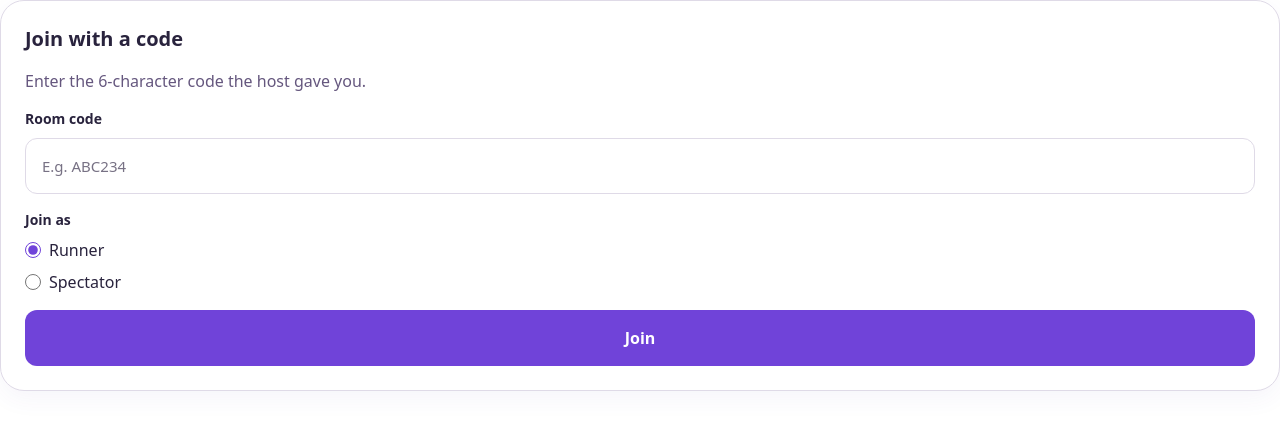
formulaire « rejoindre avec un code » (en) › refuse un code incomplet ou aux caractères exclus : message traduit, aucun envoi
Step 1. Type "ABC" into the field labelled "Room code" → (640, 166), box [25,138,1255,194]
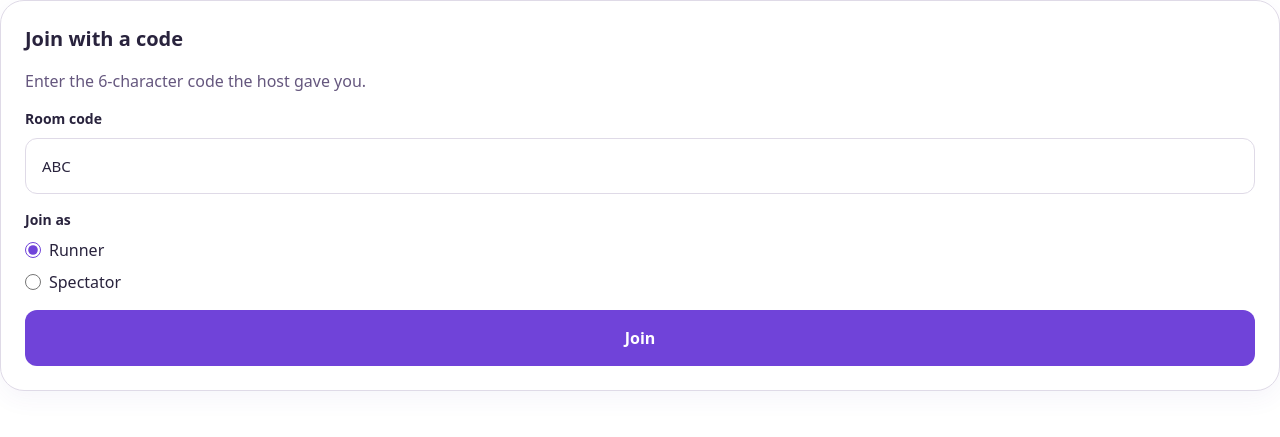
Step 2. Click the button "Join" → click(640, 338), box [25,310,1255,366]
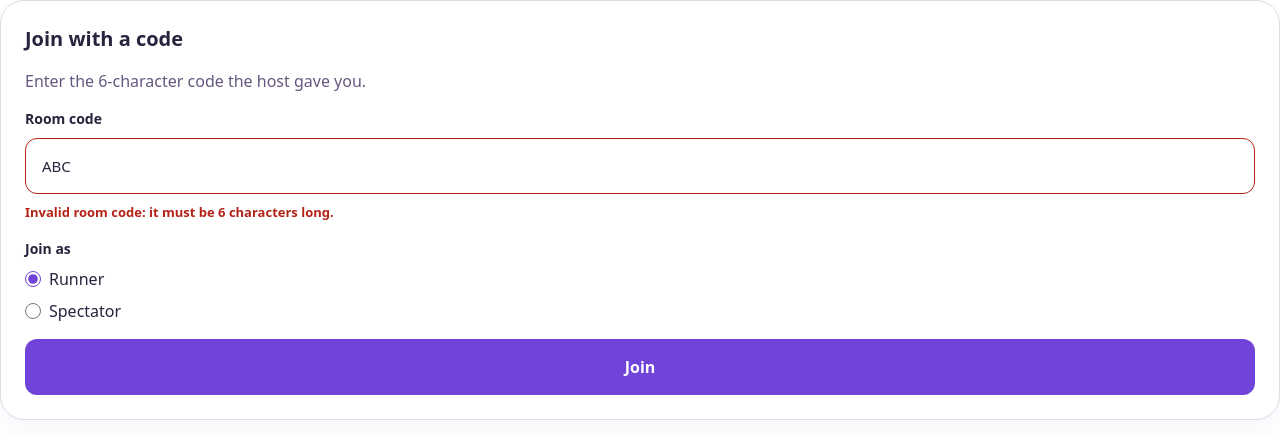
Expected: the text "Invalid room code: it must be 6 characters long." is shown, [25,203,334,221]
0, O, 1, I et L n'existent pas dans l'alphabet des codes (H-5).
Step 3. Replace the text in the field labelled "Room code" with "ABC0O1" → (640, 166), box [25,138,1255,194]
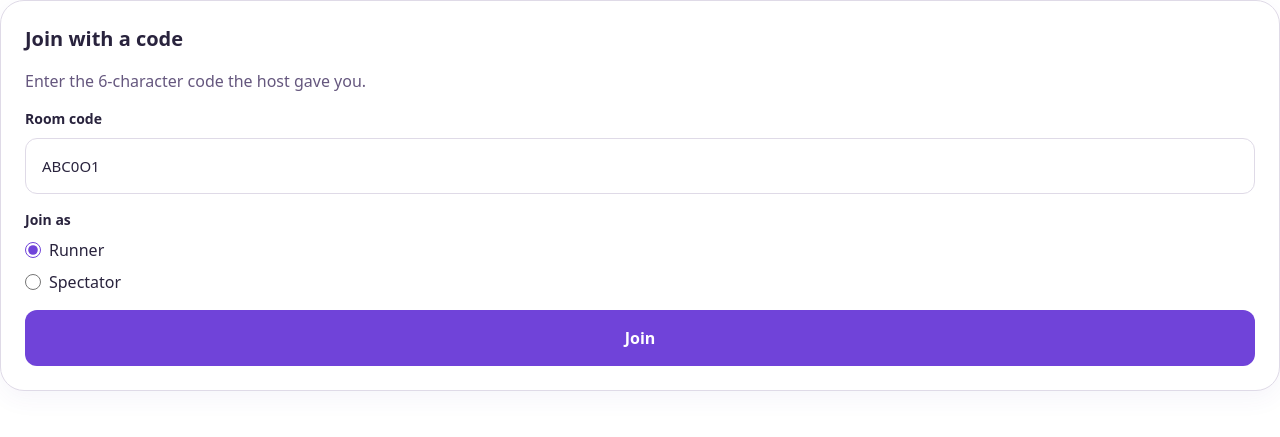
Expected: the text "Invalid room code: it must be 6 characters long." is gone
Step 4. Click the button "Join" → click(640, 338), box [25,310,1255,366]
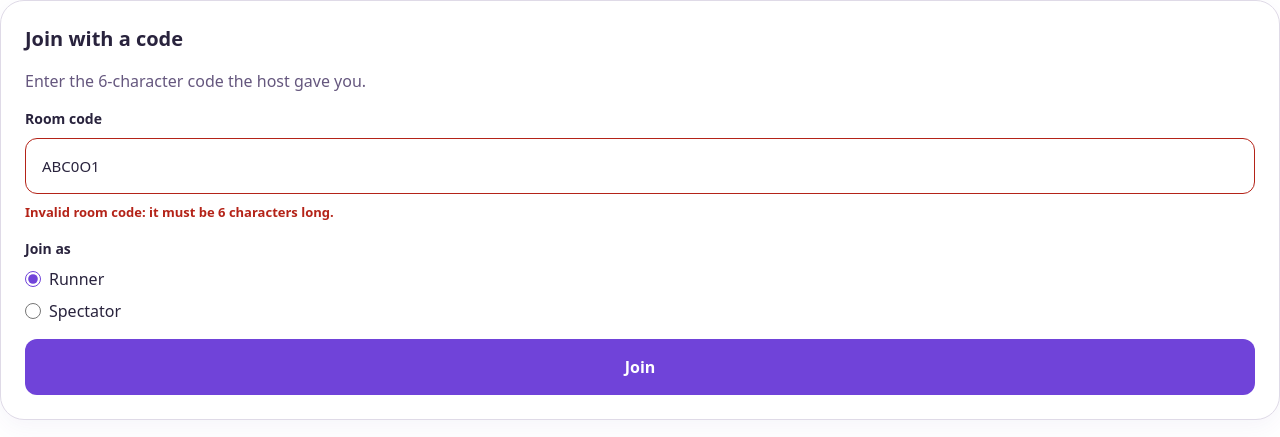
Expected: the text "Invalid room code: it must be 6 characters long." is shown, [25,203,334,221]
